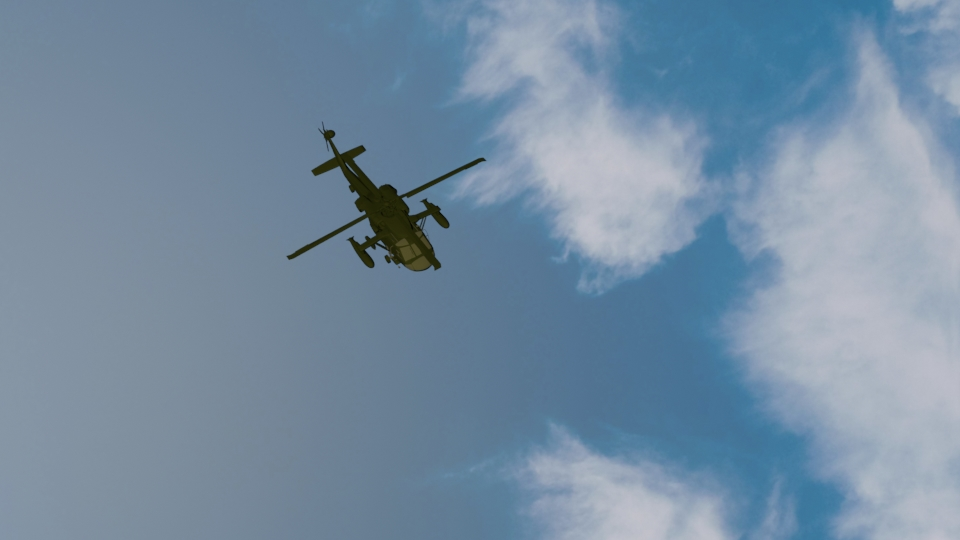heli: (284, 118, 489, 270)
